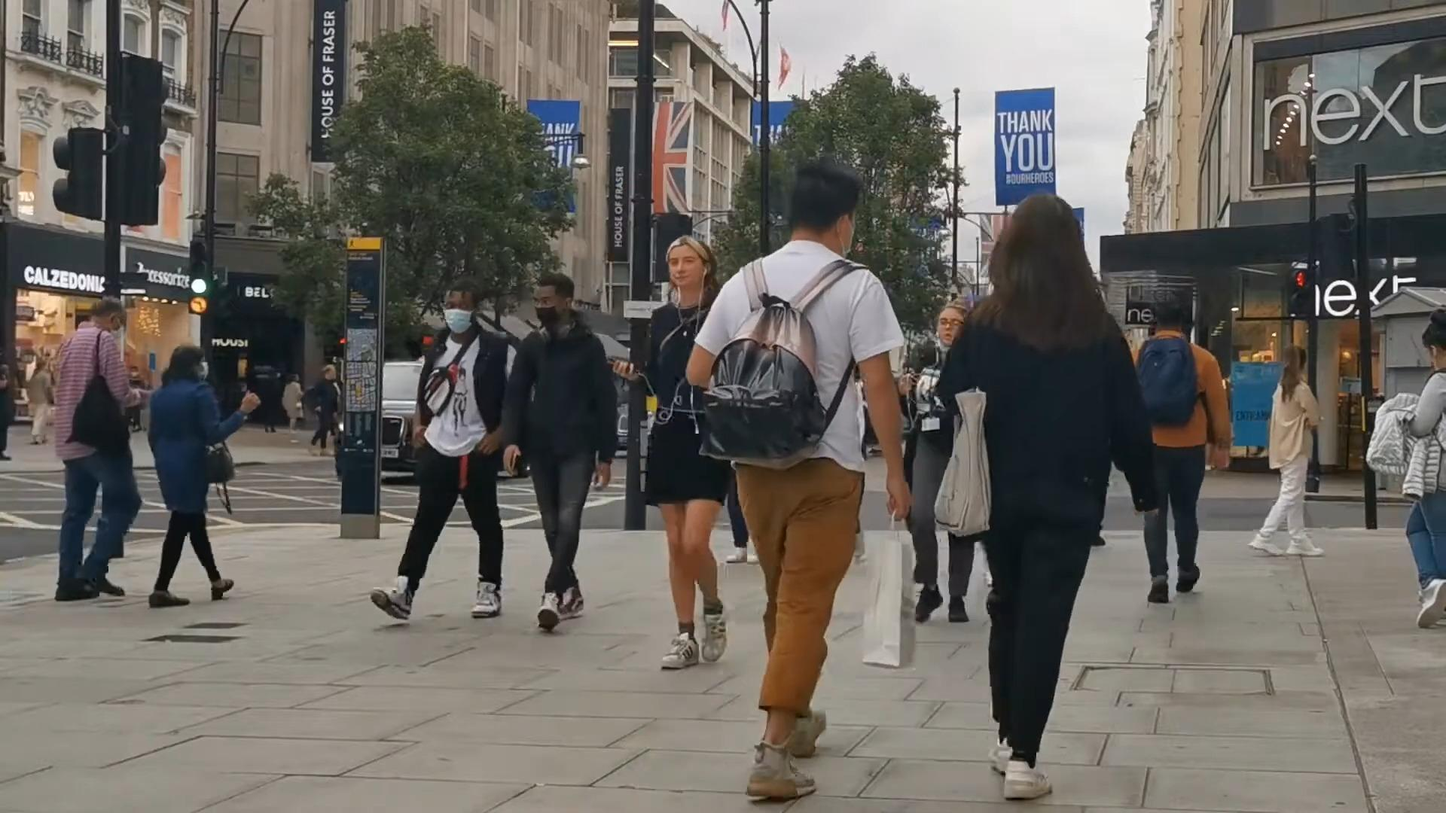no-helmet: (989, 193, 1095, 294), (789, 158, 861, 258), (665, 235, 718, 291), (532, 273, 574, 330), (443, 279, 482, 334), (938, 296, 973, 345), (89, 295, 127, 340), (169, 345, 209, 381), (1422, 309, 1446, 369), (1155, 301, 1184, 333), (1282, 345, 1306, 376)
